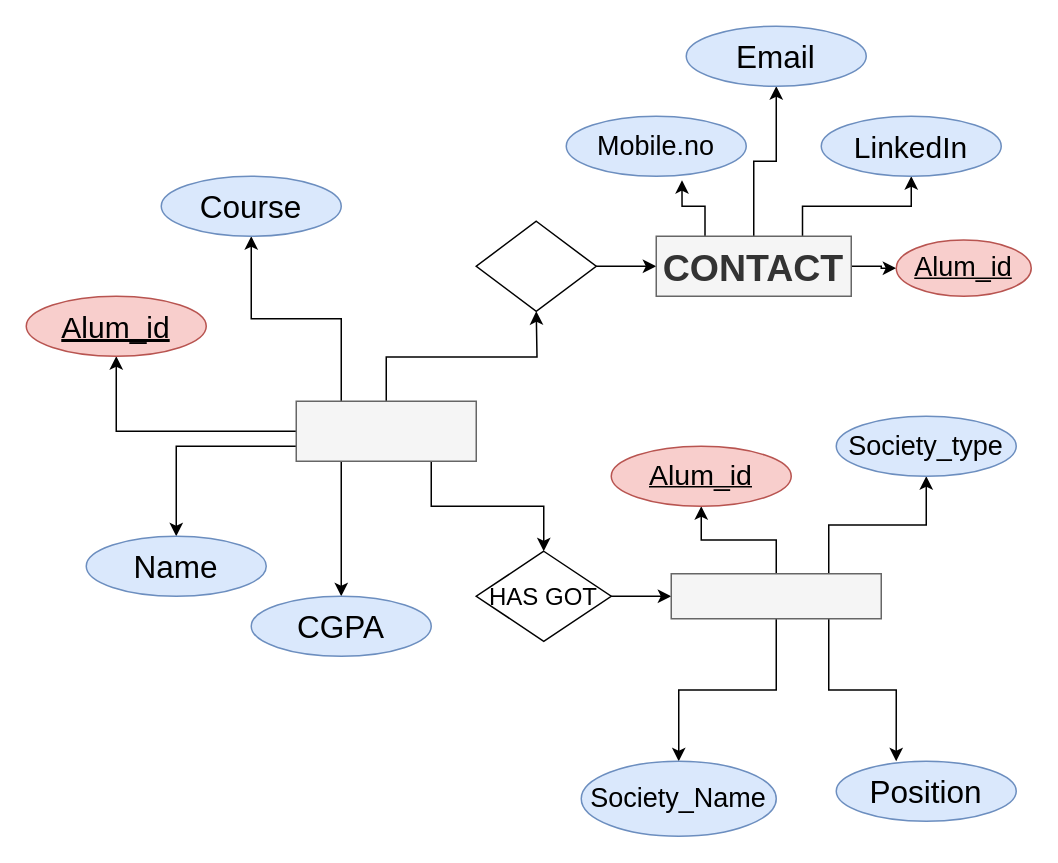
Some shapes in this 1058 by 863 pixel diagram are drawn without their labels. Here are the shapes that lost their labels. From the top down, the centre of each, then its label:
point (535, 265): HAS
point (385, 430): ALUMINI
point (775, 595): Society
